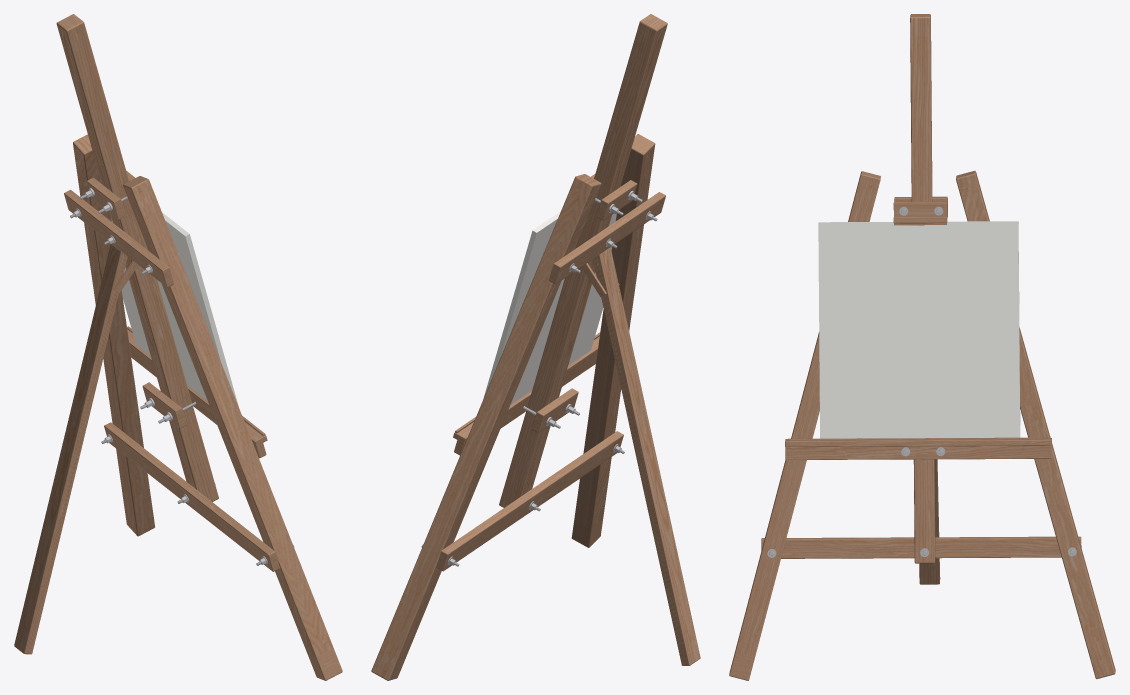
File: caballete.obj
3 views of the same model, side by side, from view 1: azimuth 30°, elevation 25°; view 2: azimuth 150°, elevation 25°; view 3: azimuth 270°, elevation 25° (orthographic). The views are drawn at different scales.
Visible parts, largest first — view 1: LeftFoot_Cube.001, VericalConnector_Cube.006, Back_Foot_Cube.010, RightFoot_Cube.002, Canvas_Plane.001, MidLowConnector_Cube.003, TopConnector_Cube.005, MidConnector_Cube.004, MidHolderHeightSetting_Cube.009, CanvasTopHolderHeightSetting_Cube.008; view 2: RightFoot_Cube.002, VericalConnector_Cube.006, Back_Foot_Cube.010, LeftFoot_Cube.001, Canvas_Plane.001, MidLowConnector_Cube.003, TopConnector_Cube.005, MidConnector_Cube.004, MidHolderHeightSetting_Cube.009, CanvasTopHolderHeightSetting_Cube.008; view 3: Canvas_Plane.001, RightFoot_Cube.002, LeftFoot_Cube.001, VericalConnector_Cube.006, MidConnector_Cube.004, MidLowConnector_Cube.003, CanvasTopHolder_Cube.007, Back_Foot_Cube.010.
Part boxes in pixels (box(x1,y1,x2,y2)): LeftFoot_Cube.001: box(123, 176, 342, 680); VericalConnector_Cube.006: box(56, 14, 218, 501); Back_Foot_Cube.010: box(14, 244, 127, 654); RightFoot_Cube.002: box(73, 134, 154, 536); Canvas_Plane.001: box(111, 212, 238, 406); MidLowConnector_Cube.003: box(104, 422, 279, 571); TopConnector_Cube.005: box(64, 189, 173, 287); MidConnector_Cube.004: box(127, 326, 267, 458); MidHolderHeightSetting_Cube.009: box(142, 382, 186, 428); CanvasTopHolderHeightSetting_Cube.008: box(86, 177, 125, 219); RightFoot_Cube.002: box(371, 174, 601, 680); VericalConnector_Cube.006: box(499, 14, 667, 507); Back_Foot_Cube.010: box(593, 247, 700, 665); LeftFoot_Cube.001: box(571, 134, 655, 547); Canvas_Plane.001: box(483, 186, 620, 404); MidLowConnector_Cube.003: box(436, 431, 623, 571); TopConnector_Cube.005: box(549, 192, 665, 284); MidConnector_Cube.004: box(453, 332, 600, 455); MidHolderHeightSetting_Cube.009: box(532, 388, 578, 432); CanvasTopHolderHeightSetting_Cube.008: box(596, 180, 637, 220); Canvas_Plane.001: box(818, 221, 1020, 438); RightFoot_Cube.002: box(956, 170, 1115, 678); LeftFoot_Cube.001: box(729, 171, 880, 680); VericalConnector_Cube.006: box(910, 14, 935, 563); MidConnector_Cube.004: box(785, 437, 1052, 459); MidLowConnector_Cube.003: box(761, 536, 1081, 558); CanvasTopHolder_Cube.007: box(893, 201, 947, 225); Back_Foot_Cube.010: box(919, 459, 940, 584).
Size of the model in its own units: 1.22 by 3.27 by 1.93.
3 materials, 3 textured.
